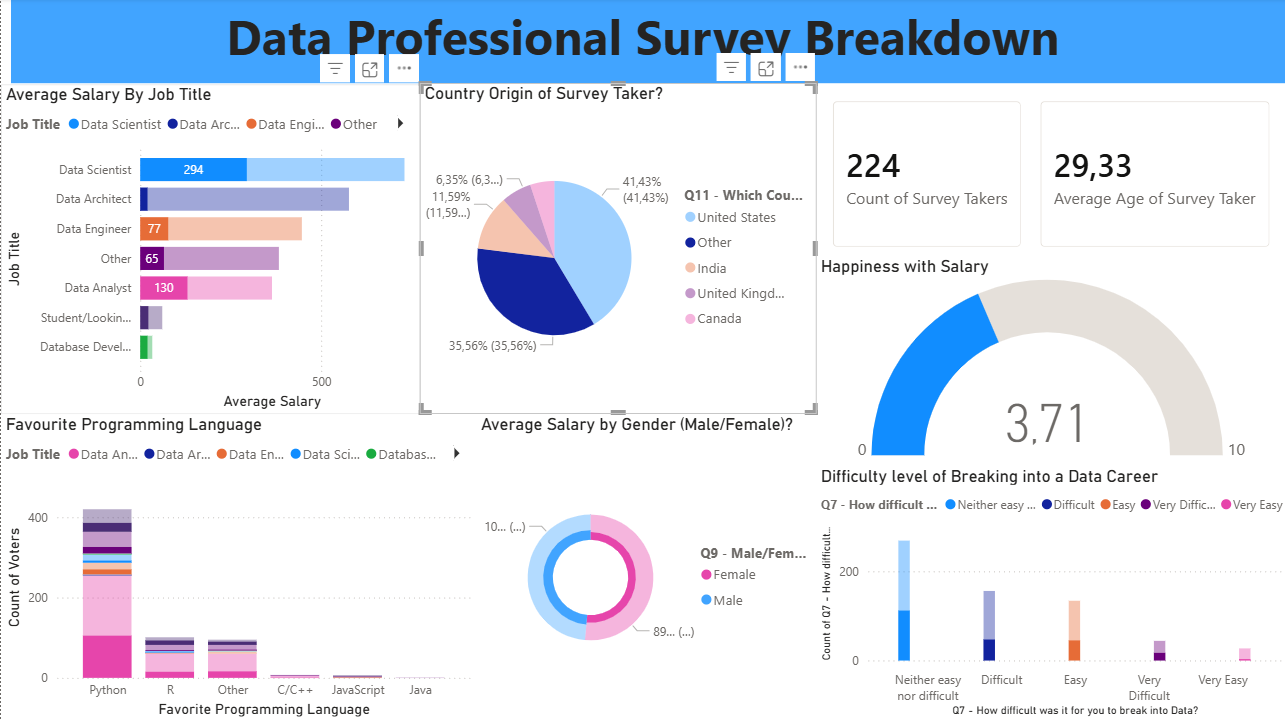

This screenshot's page, from the dashboard's own definition file:
{"tool":"powerbi","page":{"name":"Page 1","canvas":[1280,720],"ordinal":0},"visuals":[{"type":"textbox","box":[9.6,0,1270.7,85.1],"z":0},{"type":"cardVisual","fields":{"Data":["Count(Data Professional Survey.Unique ID)"]},"box":[811.1,85.8,221.4,179.1],"z":1000},{"type":"cardVisual","fields":{"Data":["Avg(Data Professional Survey.Q10 - Current Age)"]},"box":[1017.7,85.5,262.3,179.6],"z":2000},{"type":"barChart","title":"Average Salary By Job Title","fields":{"Category":["Data Professional Survey.Q1 - Which Title Best Fits your Current Role?.1"],"Y":["Avg(Data Professional Survey.Average Salary)"],"Series":["Data Professional Survey.Q1 - Which Title Best Fits your Current Role?.1"]},"box":[0,85.8,416.7,328.4],"z":3000},{"type":"columnChart","title":"Favourite Programming Language","fields":{"Category":["Data Professional Survey.Q5 - Favorite Programming Language.1"],"Y":["CountNonNull(Data Professional Survey.Unique ID)"],"Series":["Data Professional Survey.Q1 - Which Title Best Fits your Current Role?.1"]},"box":[0,414.2,472.7,306],"z":4000},{"type":"pieChart","title":"Country Origin of Survey Taker?","fields":{"Y":["CountNonNull(Data Professional Survey.Q11 - Which Country do you live in?.1)"],"Category":["Data Professional Survey.Q11 - Which Country do you live in?.1"]},"box":[416.7,84.6,394.3,329.6],"z":5000},{"type":"gauge","title":"Happiness with Salary ","fields":{"Y":["Avg(Data Professional Survey.Q6 - How Happy are you in your Current Position with the following? (Salary))"],"MinValue":["Min(Data Professional Survey.Q6 - How Happy are you in your Current Position with the following? (Salary))1"],"MaxValue":["Max(Data Professional Survey.Q6 - How Happy are you in your Current Position with the following? (Salary))2"]},"box":[811.1,256.3,469,209],"z":6000},{"type":"clusteredColumnChart","title":"Difficulty level of Breaking into a Data Career","fields":{"Series":["Data Professional Survey.Q7 - How difficult was it for you to break into Data?"],"Y":["CountNonNull(Data Professional Survey.Q7 - How difficult was it for you to break into Data?)"],"Category":["Data Professional Survey.Q7 - How difficult was it for you to break into Data?"]},"box":[811.1,465.2,469,255],"z":7000},{"type":"donutChart","title":"Average Salary by Gender (Male/Female)?","fields":{"Category":["Data Professional Survey.Q9 - Male/Female?"],"Y":["Avg(Data Professional Survey.Average Salary)"]},"box":[472.7,414.2,338.4,306],"z":8000}]}

Visuals, with their boxes in screenshot pixels (x1, y1, x2, y2), scaled from the page's 1280x720 canvas onto the 1285x720 screenshot:
textbox: 10 0 1284 85
cardVisual - Count(Data Professional Survey.Unique ID): 814 86 1037 265
cardVisual - Avg(Data Professional Survey.Q10 - Current Age): 1022 86 1284 265
"Average Salary By Job Title" barChart: 0 86 418 414
"Favourite Programming Language" columnChart: 0 414 475 719
"Country Origin of Survey Taker?" pieChart: 418 85 814 414
"Happiness with Salary " gauge: 814 256 1284 465
"Difficulty level of Breaking into a Data Career" clusteredColumnChart: 814 465 1284 719
"Average Salary by Gender (Male/Female)?" donutChart: 475 414 814 719
